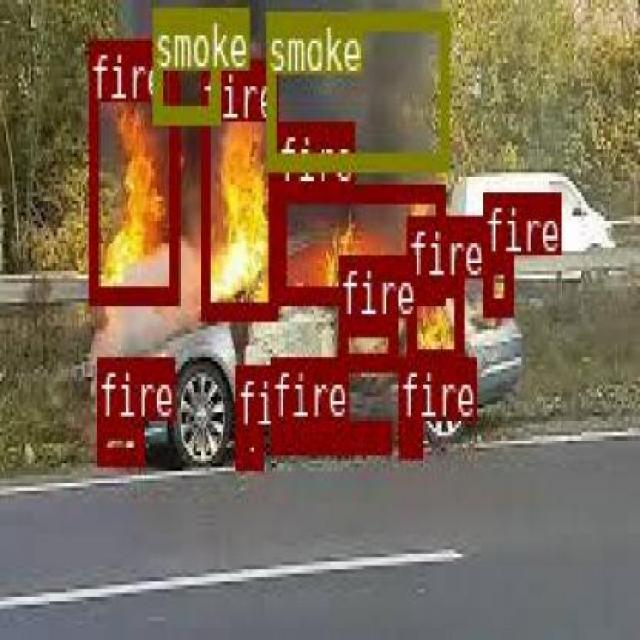Fire: (88, 39, 177, 301), (199, 57, 275, 316), (275, 183, 443, 300), (407, 276, 462, 362), (269, 417, 389, 451), (337, 316, 395, 367), (96, 416, 142, 462), (481, 252, 510, 314), (235, 426, 262, 466), (398, 417, 420, 452)
Smoke: (266, 8, 448, 168), (152, 5, 218, 119)
